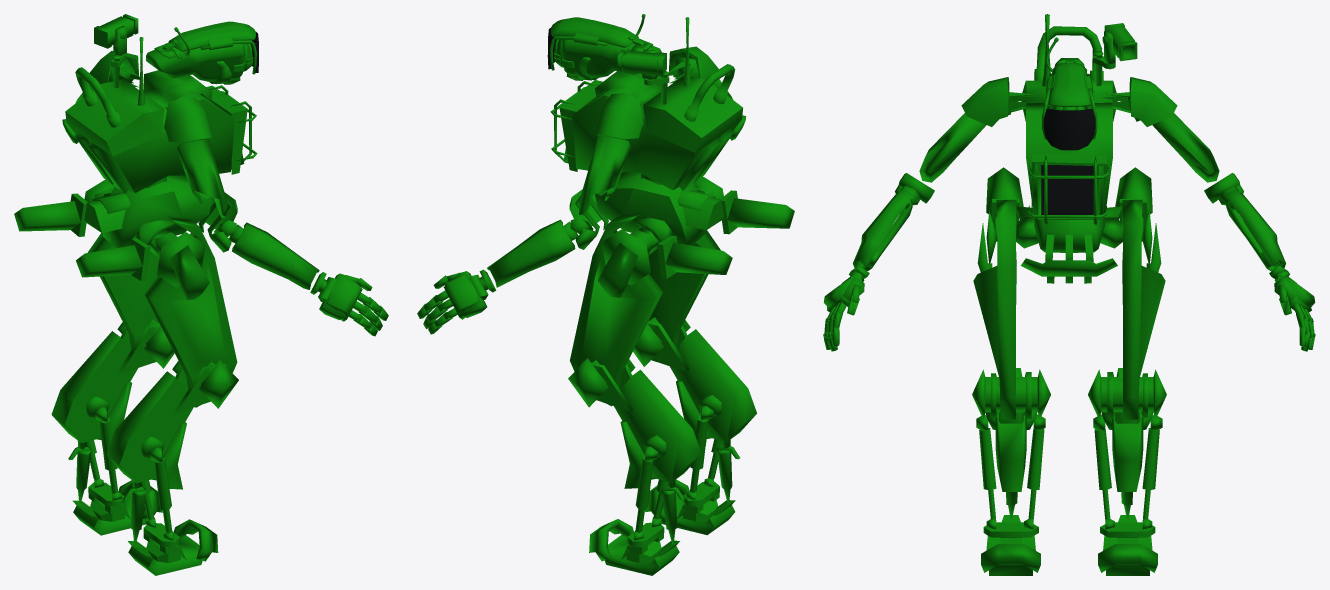
File: mp_marvin_spawn.obj
The picture shows the model from 3 angles, left to right: view 1: azimuth 30°, elevation 25°; view 2: azimuth 150°, elevation 25°; view 3: azimuth 270°, elevation 25°; orthographic projection. The views are drawn at different scales.
Visible parts, largest first — view 1: marvin_body_lod0_lod2; view 2: marvin_body_lod0_lod2; view 3: marvin_body_lod0_lod2.
Boxes of the visible parts, <box> form: marvin_body_lod0_lod2: <box>14,14,388,575</box>; marvin_body_lod0_lod2: <box>417,14,794,575</box>; marvin_body_lod0_lod2: <box>823,14,1315,575</box>.
Size of the model in its own units: 31.11 by 67.32 by 55.2.
